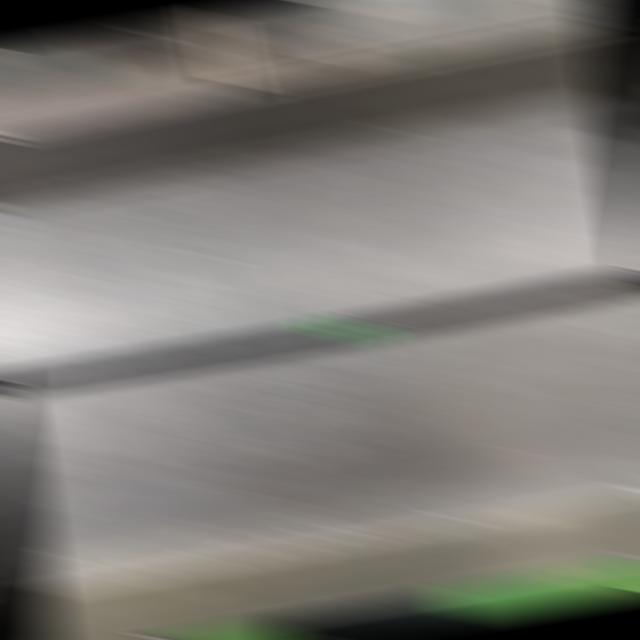green: (304, 316, 386, 346)
